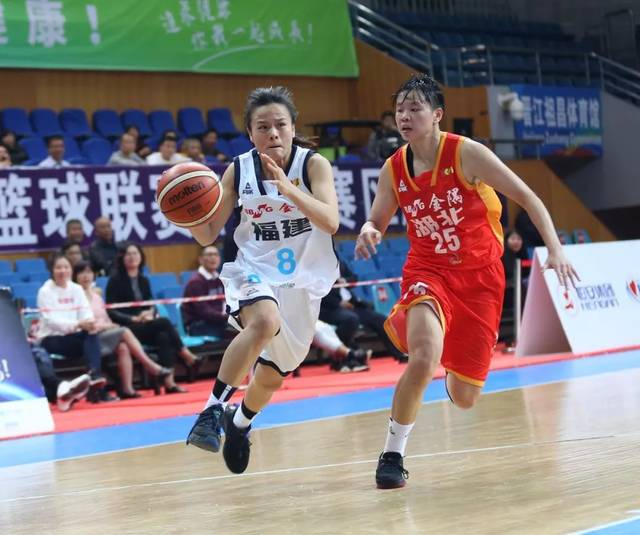ball: (157, 160, 224, 228)
